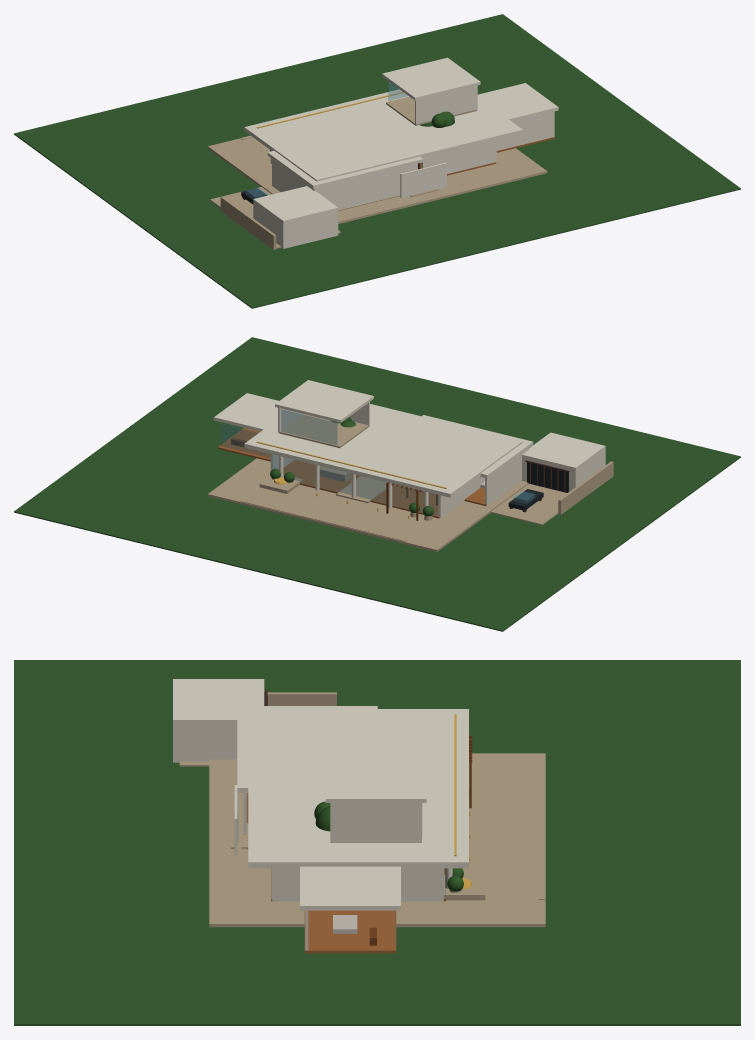
The model's file is villa-lumina-azure.glb.
3 renders of one model, top to bottom at view 1: azimuth 30°, elevation 25°; view 2: azimuth 150°, elevation 25°; view 3: azimuth 270°, elevation 25°, orthographic. The views are drawn at different scales.
Parts seen in each view (by area): view 1: Coastal lawn, Floating roof, Travertine terrace, Garage volume, Spa pavilion roof, Bedroom wing rear wall, Guest pavilion roof, Spa pavilion rear wall, Rear limestone wall east, Bedroom wing roof, Guest pavilion rear wall, Entry vestibule wall (+4 smaller); view 2: Coastal lawn, Floating roof, Travertine terrace, Sea glass facade, Garage volume, Spa pavilion roof, Villa floor, Spa pavilion floor, Guest pavilion roof, Arrival driveway, Spa glass wall, Bedroom wing west wall (+8 smaller); view 3: Coastal lawn, Floating roof, Travertine terrace, Garage volume, Spa pavilion roof, Guest pavilion roof, Spa pavilion east wall, Guest pavilion floor, East wing, Bedroom wing roof, Arrival gate wall, Pool coping (+1 smaller).
Boxes of the visible parts, left/top/right/bottom form: Coastal lawn: left=14, top=14, right=740, bottom=308; Floating roof: left=244, top=89, right=522, bottom=181; Travertine terrace: left=207, top=137, right=547, bottom=223; Garage volume: left=253, top=186, right=338, bottom=248; Spa pavilion roof: left=382, top=57, right=480, bottom=100; Bedroom wing rear wall: left=314, top=163, right=417, bottom=210; Guest pavilion roof: left=477, top=83, right=558, bottom=121; Spa pavilion rear wall: left=415, top=85, right=476, bottom=124; Rear limestone wall east: left=421, top=140, right=496, bottom=173; Bedroom wing roof: left=267, top=150, right=423, bottom=188; Guest pavilion rear wall: left=496, top=111, right=554, bottom=150; Entry vestibule wall: left=400, top=162, right=446, bottom=198; Coastal lawn: left=14, top=337, right=740, bottom=631; Floating roof: left=244, top=404, right=522, bottom=497; Travertine terrace: left=207, top=458, right=528, bottom=551; Sea glass facade: left=272, top=454, right=438, bottom=516; Garage volume: left=522, top=432, right=605, bottom=491; Spa pavilion roof: left=275, top=380, right=373, bottom=422; Villa floor: left=283, top=460, right=439, bottom=518; Spa pavilion floor: left=279, top=414, right=369, bottom=448; Guest pavilion roof: left=214, top=393, right=278, bottom=431; Arrival driveway: left=490, top=483, right=567, bottom=525; Spa glass wall: left=281, top=409, right=337, bottom=444; Bedroom wing west wall: left=485, top=448, right=528, bottom=505; Coastal lawn: left=14, top=660, right=740, bottom=1025; Floating roof: left=248, top=709, right=468, bottom=868; Travertine terrace: left=209, top=753, right=545, bottom=927; Garage volume: left=173, top=679, right=264, bottom=762; Spa pavilion roof: left=325, top=750, right=426, bottom=802; Guest pavilion roof: left=300, top=866, right=400, bottom=910; Spa pavilion east wall: left=330, top=803, right=421, bottom=841; Guest pavilion floor: left=304, top=910, right=396, bottom=953; East wing: left=273, top=868, right=443, bottom=901; Bedroom wing roof: left=237, top=706, right=377, bottom=792; Arrival gate wall: left=267, top=692, right=336, bottom=705; Pool coping: left=538, top=776, right=544, bottom=899.
Size of the model in its own units: 64 by 9.76 by 54.
